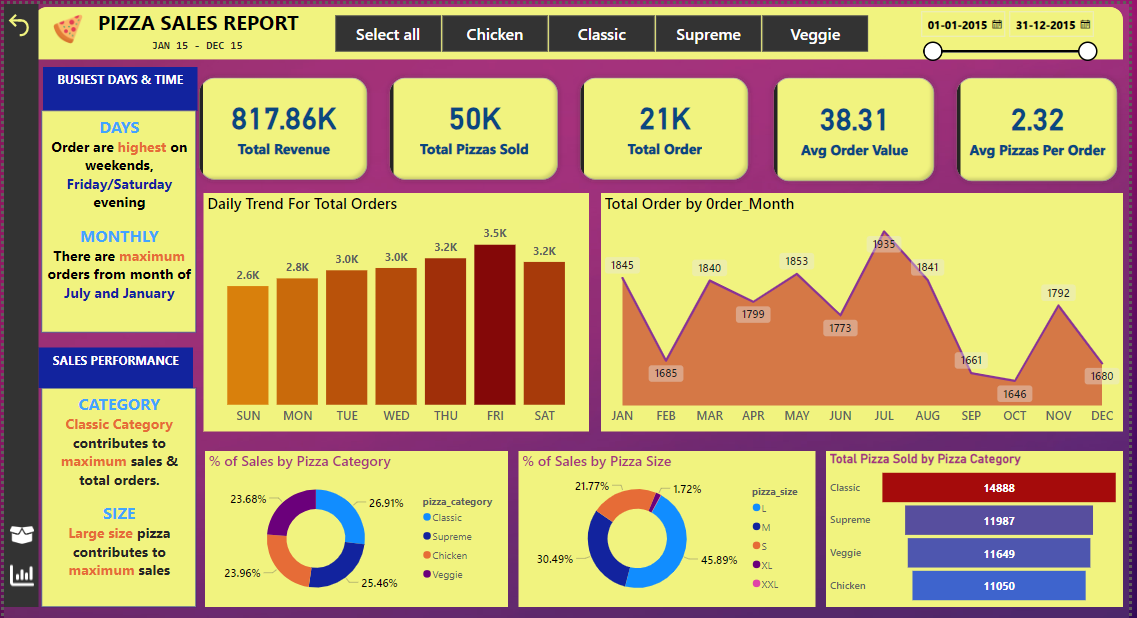

The dashboard page shown, as its layout file describes it:
{"tool":"powerbi","page":{"name":"Home","canvas":[1500,820],"ordinal":0},"visuals":[{"type":"cardVisual","fields":{"Data":["pizza_db pizza_sales.Total Revenue","pizza_db pizza_sales.Total Pizzas Sold","pizza_db pizza_sales.Total Order"]},"box":[244,82,766,168],"z":0},{"type":"cardVisual","fields":{"Data":["pizza_db pizza_sales.Avg Order Value","pizza_db pizza_sales.Avg Pizzas Per Order"]},"box":[1010,82,490,170],"z":1000},{"type":"shape","box":[40,4,1452,70],"z":2000},{"type":"textbox","box":[120,0,296,50],"z":3000},{"type":"textbox","box":[192,40,170,34],"z":4000},{"type":"image","box":[50,8,70,50],"z":5000},{"type":"columnChart","title":"Daily Trend For Total Orders","fields":{"Category":["pizza_db pizza_sales.Order_day"],"Y":["pizza_db pizza_sales.Total Order"]},"box":[266,252,514,318],"z":6000},{"type":"areaChart","fields":{"Category":["pizza_db pizza_sales.0rder_Month"],"Y":["pizza_db pizza_sales.Total Order"]},"box":[796,252,696,318],"z":7000},{"type":"donutChart","title":"% of Sales by Pizza Category","fields":{"Category":["pizza_db pizza_sales.pizza_category"],"Y":["pizza_db pizza_sales.Total Revenue"]},"box":[268,596,404,208],"z":8000},{"type":"donutChart","title":"% of Sales by Pizza Size","fields":{"Category":["pizza_db pizza_sales.pizza_size"],"Y":["pizza_db pizza_sales.Total Revenue"]},"box":[686,596,396,208],"z":9000},{"type":"funnel","title":"Total Pizza Sold by Pizza Category","fields":{"Y":["pizza_db pizza_sales.Total Pizzas Sold"],"Category":["pizza_db pizza_sales.pizza_category"]},"box":[1096,596,396,208],"z":10000},{"type":"textbox","box":[52,84,206,58],"z":11000},{"type":"textbox","box":[50,142,206,296],"z":12000},{"type":"textbox","box":[46,458,206,54],"z":13000},{"type":"textbox","box":[50,512,206,292],"z":14000},{"type":"slicer","title":"  Pizza Category","fields":{"Values":["pizza_db pizza_sales.pizza_category"]},"box":[416,8,760,62],"z":15000},{"type":"slicer","title":"  Pizza Category","fields":{"Values":["pizza_db pizza_sales.order_date"]},"box":[1210,0,256,80],"z":16000},{"type":"shape","title":"Left Nav Background","box":[0,0,46,804],"z":17000},{"type":"actionButton","box":[0,4,40,48],"z":18000},{"type":"actionButton","box":[4,742,46,40],"z":19000},{"type":"actionButton","box":[4,688,50,40],"z":20000}]}

Visuals, with their boxes in screenshot pixels (x1, y1, x2, y2), scaled from the page's 1500x820 canvas onto the 1137x618 screenshot:
cardVisual - pizza_db pizza_sales.Total Revenue x pizza_db pizza_sales.Total Pizzas Sold: bbox(185, 62, 766, 188)
cardVisual - pizza_db pizza_sales.Avg Order Value x pizza_db pizza_sales.Avg Pizzas Per Order: bbox(766, 62, 1136, 190)
shape: bbox(30, 3, 1131, 56)
textbox: bbox(91, 0, 315, 38)
textbox: bbox(146, 30, 274, 56)
image: bbox(38, 6, 91, 44)
"Daily Trend For Total Orders" columnChart: bbox(202, 190, 591, 430)
areaChart - pizza_db pizza_sales.0rder_Month x pizza_db pizza_sales.Total Order: bbox(603, 190, 1131, 430)
"% of Sales by Pizza Category" donutChart: bbox(203, 449, 509, 606)
"% of Sales by Pizza Size" donutChart: bbox(520, 449, 820, 606)
"Total Pizza Sold by Pizza Category" funnel: bbox(831, 449, 1131, 606)
textbox: bbox(39, 63, 196, 107)
textbox: bbox(38, 107, 194, 330)
textbox: bbox(35, 345, 191, 386)
textbox: bbox(38, 386, 194, 606)
"  Pizza Category" slicer: bbox(315, 6, 891, 53)
"  Pizza Category" slicer: bbox(917, 0, 1111, 60)
"Left Nav Background" shape: bbox(0, 0, 35, 606)
actionButton: bbox(0, 3, 30, 39)
actionButton: bbox(3, 559, 38, 589)
actionButton: bbox(3, 519, 41, 549)
